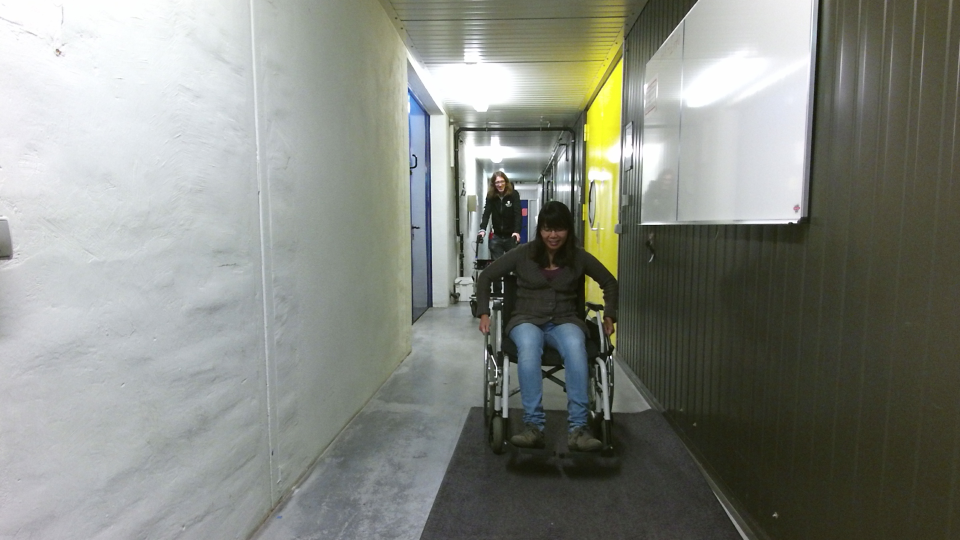wheelchair: (470, 196, 627, 462)
